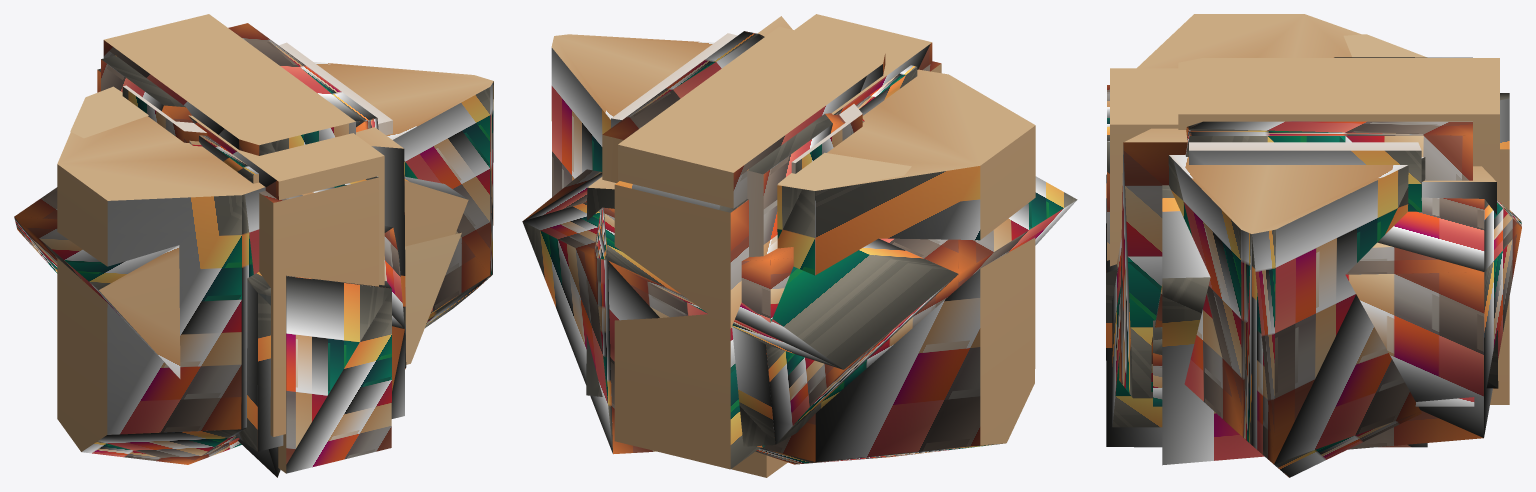
Rendered from rootnode_chunks.glb.
3 views of the same model, side by side, from view 1: azimuth 30°, elevation 25°; view 2: azimuth 150°, elevation 25°; view 3: azimuth 270°, elevation 25° (orthographic). The views are drawn at different scales.
Parts seen in each view (by area): view 1: box_A.003_cell.019, box_A.003_cell.011, box_A.003_cell.005, box_A.003_cell.013, box_A.003_cell.015, box_A.003_cell.003, box_A.003_cell.010, box_A.003_cell.014, box_A.003_cell.012, box_A.003_cell.009, box_A.003_cell.008, box_A.003_cell.002; view 2: box_A.003_cell.019, box_A.003_cell.013, box_A.003_cell.017, box_A.003_cell.005, box_A.003_cell.014, box_A.003_cell.003, box_A.003_cell, box_A.003_cell.012, box_A.003_cell.006, box_A.003_cell.009, box_A.003_cell.008, box_A.003_cell.011; view 3: box_A.003_cell.019, box_A.003_cell.013, box_A.003_cell.005, box_A.003_cell.012, box_A.003_cell.014, box_A.003_cell.003, box_A.003_cell.009, box_A.003_cell.011, box_A.003_cell.010, box_A.003_cell.017, box_A.003_cell.006, box_A.003_cell.008 (+1 smaller).
Boxes of the visible parts, x1,y1,x2,y2 form: box_A.003_cell.019: [57, 62, 493, 464]; box_A.003_cell.011: [278, 275, 391, 473]; box_A.003_cell.005: [103, 14, 355, 155]; box_A.003_cell.013: [14, 176, 468, 378]; box_A.003_cell.015: [259, 176, 378, 436]; box_A.003_cell.003: [188, 115, 384, 285]; box_A.003_cell.010: [235, 226, 404, 451]; box_A.003_cell.014: [101, 23, 378, 146]; box_A.003_cell.012: [122, 85, 406, 369]; box_A.003_cell.009: [279, 42, 392, 135]; box_A.003_cell.008: [199, 135, 258, 183]; box_A.003_cell.002: [238, 439, 280, 477]; box_A.003_cell.019: [551, 34, 1035, 464]; box_A.003_cell.013: [522, 169, 1077, 454]; box_A.003_cell.017: [614, 181, 760, 469]; box_A.003_cell.005: [618, 26, 885, 208]; box_A.003_cell.014: [602, 31, 864, 256]; box_A.003_cell.003: [794, 14, 932, 114]; box_A.003_cell: [741, 247, 793, 322]; box_A.003_cell.012: [757, 16, 862, 173]; box_A.003_cell.006: [586, 177, 616, 396]; box_A.003_cell.009: [611, 33, 737, 127]; box_A.003_cell.008: [856, 65, 917, 115]; box_A.003_cell.011: [731, 451, 787, 477]; box_A.003_cell.019: [1137, 14, 1427, 477]; box_A.003_cell.013: [1162, 185, 1521, 465]; box_A.003_cell.005: [1178, 58, 1499, 370]; box_A.003_cell.012: [1119, 128, 1187, 398]; box_A.003_cell.014: [1151, 57, 1472, 391]; box_A.003_cell.003: [1110, 68, 1178, 266]; box_A.003_cell.009: [1189, 142, 1421, 211]; box_A.003_cell.011: [1106, 174, 1427, 447]; box_A.003_cell.010: [1112, 238, 1162, 427]; box_A.003_cell.017: [1490, 93, 1509, 404]; box_A.003_cell.006: [1422, 166, 1498, 388]; box_A.003_cell.008: [1153, 320, 1474, 406].
Size of the model in its own units: 0.1707 by 0.1253 by 0.1289.
Materials: 1 (1 with a texture image).
